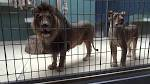lion: (26, 1, 100, 75), (105, 8, 142, 73)
